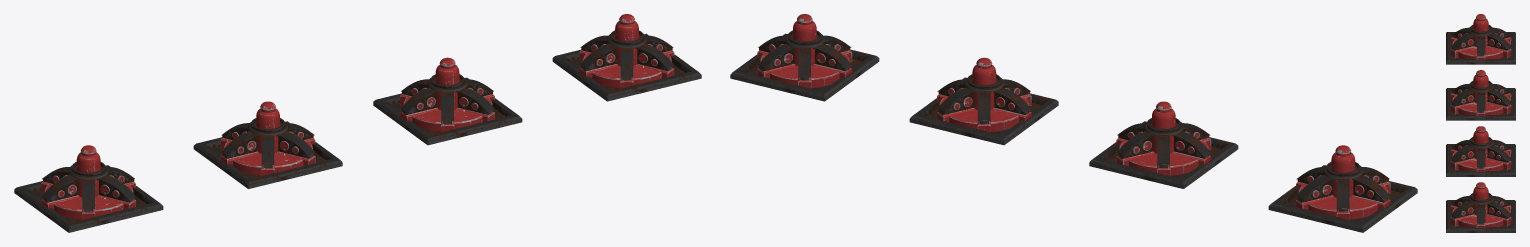
Rendered from Map_6.fbx.
3 views of the same model, side by side, from view 1: azimuth 30°, elevation 25°; view 2: azimuth 150°, elevation 25°; view 3: azimuth 270°, elevation 25° (orthographic). The views are drawn at different scales.
Visible parts, largest first — view 1: Map_06; view 2: Map_06; view 3: Map_06.
Part boxes in pixels (box(x1,y1,x2,y2)): Map_06: box(14, 14, 701, 232); Map_06: box(730, 14, 1417, 232); Map_06: box(1446, 14, 1515, 232).
Bounding box in the file's own units: 26.77 × 2.21 × 4.
1 material, 1 textured.
